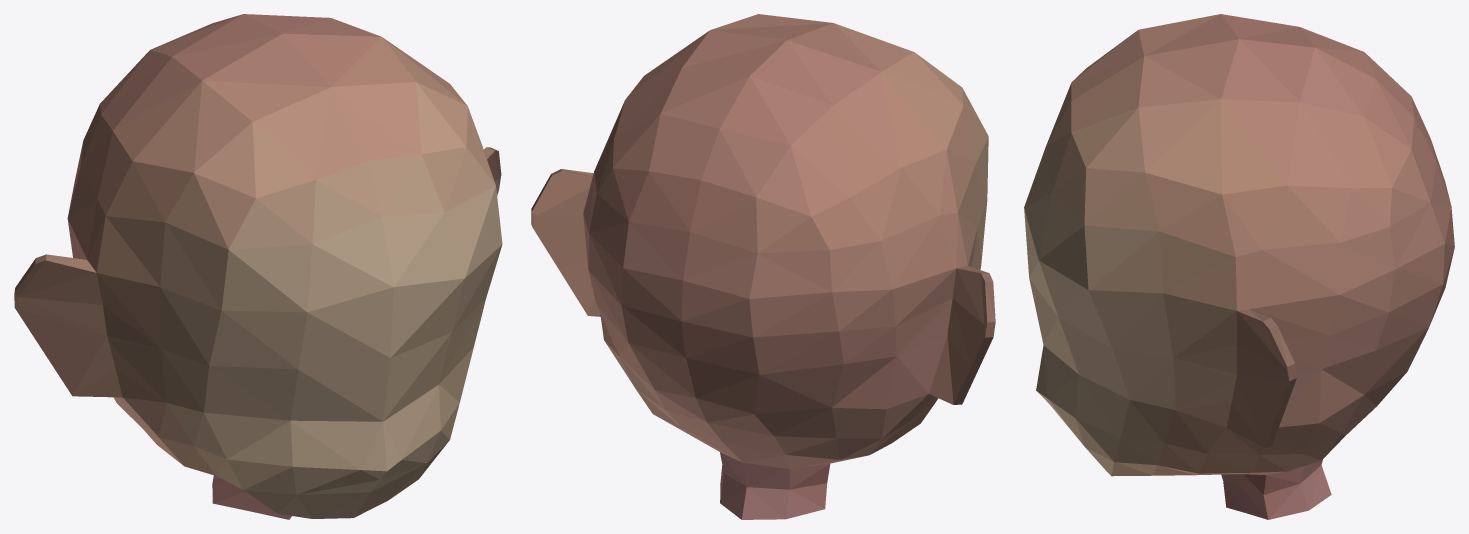
Rendered from helm_lightskin_bald.fbx.
3 renders of one model, left to right at view 1: azimuth 30°, elevation 25°; view 2: azimuth 150°, elevation 25°; view 3: azimuth 270°, elevation 25°, orthographic. The views are drawn at different scales.
Parts seen in each view (by area): view 1: helm_lightskin_bald; view 2: helm_lightskin_bald; view 3: helm_lightskin_bald.
Part boxes in pixels (x1,y1,x2,y2): helm_lightskin_bald: (14, 14, 502, 519); helm_lightskin_bald: (531, 14, 995, 519); helm_lightskin_bald: (1024, 14, 1454, 519).
Size of the model in its own units: 1.12 by 1.06 by 0.8843.
